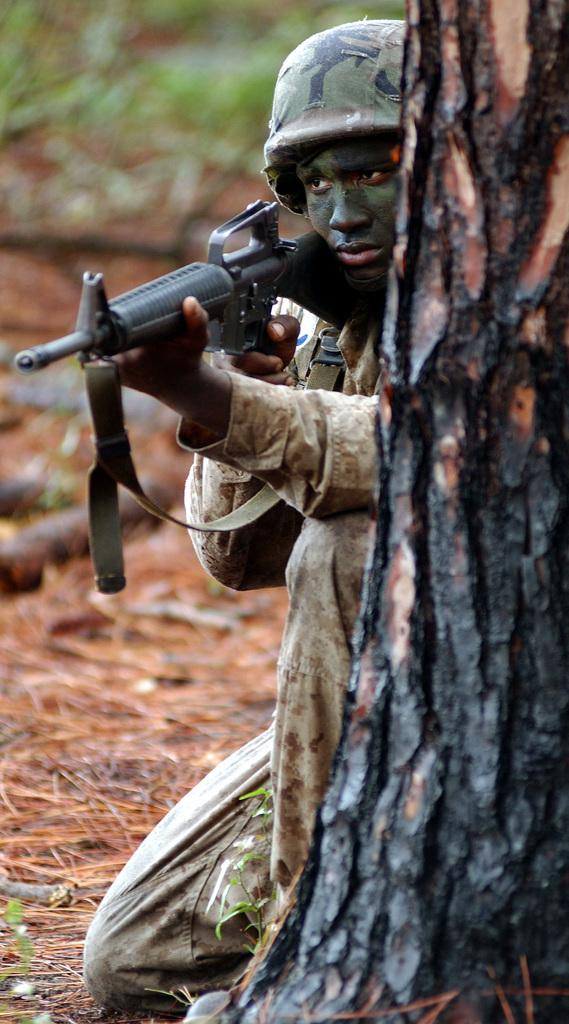Rifle: (16, 198, 365, 594)
